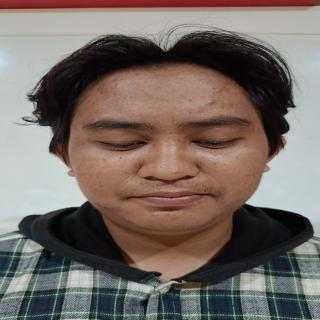Sedih: (64, 53, 275, 245)
